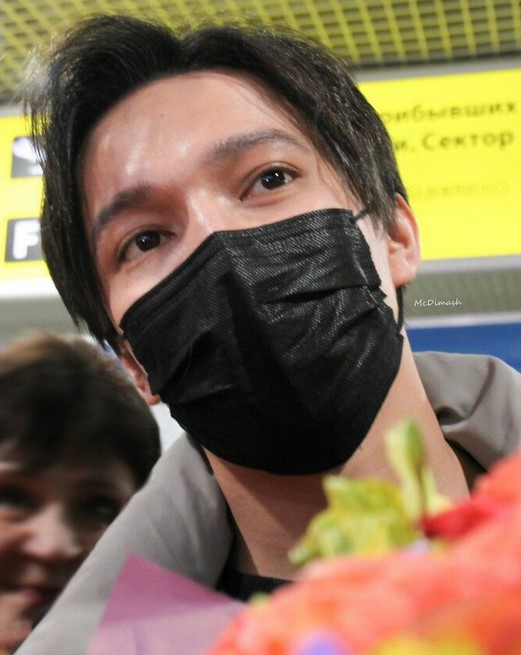face_no_mask: (4, 334, 162, 653)
face_with_mask: (45, 27, 425, 476)
